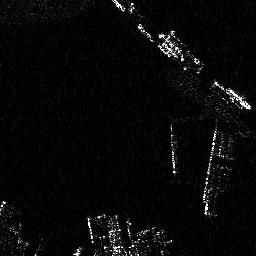ship: (160, 27, 203, 73), (211, 79, 254, 111), (169, 123, 179, 175)
